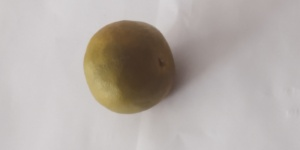BAD: (81, 18, 176, 117)
